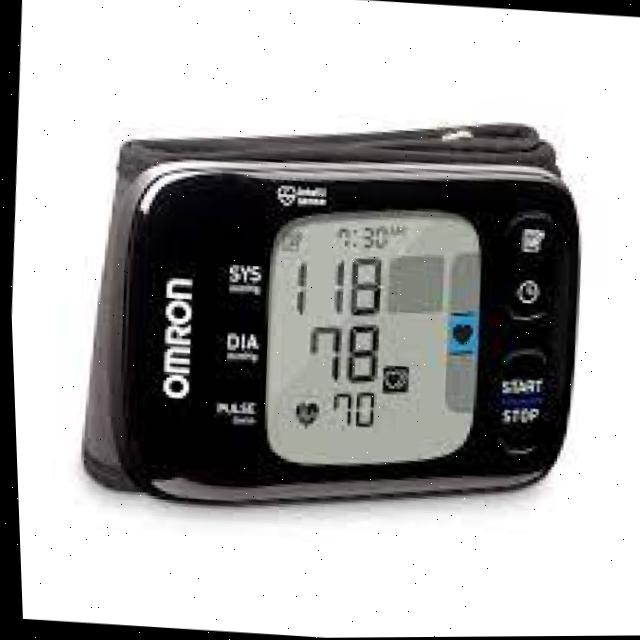dia: (301, 318, 382, 385)
pul: (326, 390, 381, 433)
ssd: (265, 212, 474, 467)
sys: (286, 253, 384, 320)
